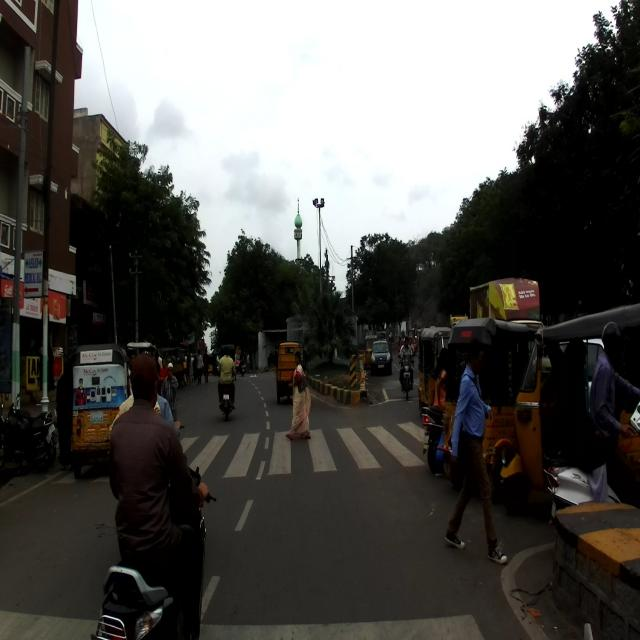autorickshaw: (497, 300, 639, 512), (443, 317, 545, 503), (68, 342, 133, 478)
motorcycle: (0, 398, 54, 476), (7, 388, 58, 467)
scooter: (90, 464, 218, 639), (543, 400, 639, 521)
